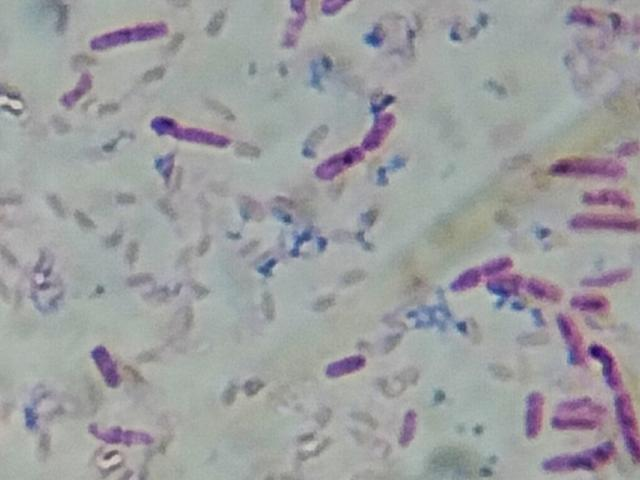E. coli: (88, 24, 179, 58), (156, 115, 232, 149), (545, 440, 623, 473), (446, 254, 524, 281), (549, 154, 623, 182), (317, 138, 362, 184), (570, 208, 640, 235), (494, 269, 553, 301), (318, 352, 377, 383), (553, 314, 587, 366), (90, 341, 124, 389), (619, 390, 640, 458), (364, 110, 400, 146), (592, 344, 618, 386), (522, 384, 543, 436), (566, 291, 611, 315), (582, 186, 633, 207), (397, 408, 420, 452)
